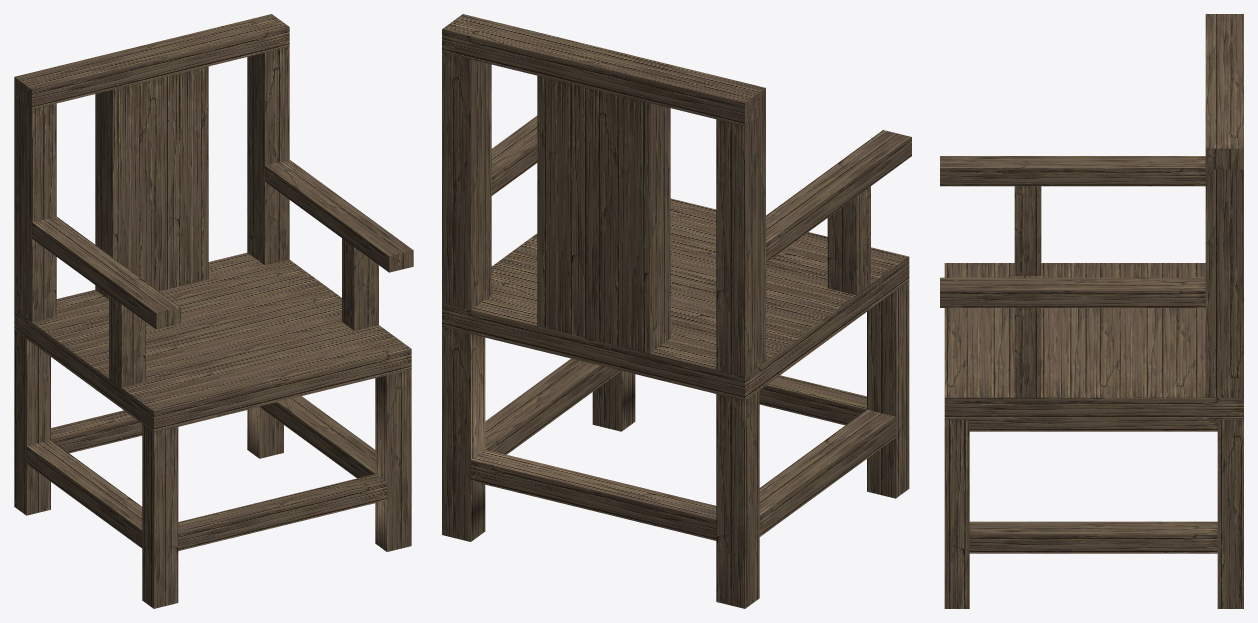
File: Chair4.fbx
The picture shows the model from 3 angles, left to right: view 1: azimuth 30°, elevation 25°; view 2: azimuth 150°, elevation 25°; view 3: azimuth 270°, elevation 25°; orthographic projection. The views are drawn at different scales.
Visible parts, largest first — view 1: Chair4; view 2: Chair4; view 3: Chair4.
Boxes of the visible parts, x1,y1,x2,y2 form: Chair4: (14,14,413,608); Chair4: (442,14,911,608); Chair4: (940,14,1243,608).
Size of the model in its own units: 0.4165 by 0.6641 by 0.3972.
1 material, 1 textured.
